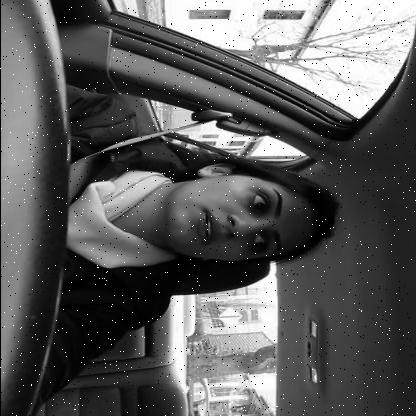seatbelt: (68, 108, 342, 270)
